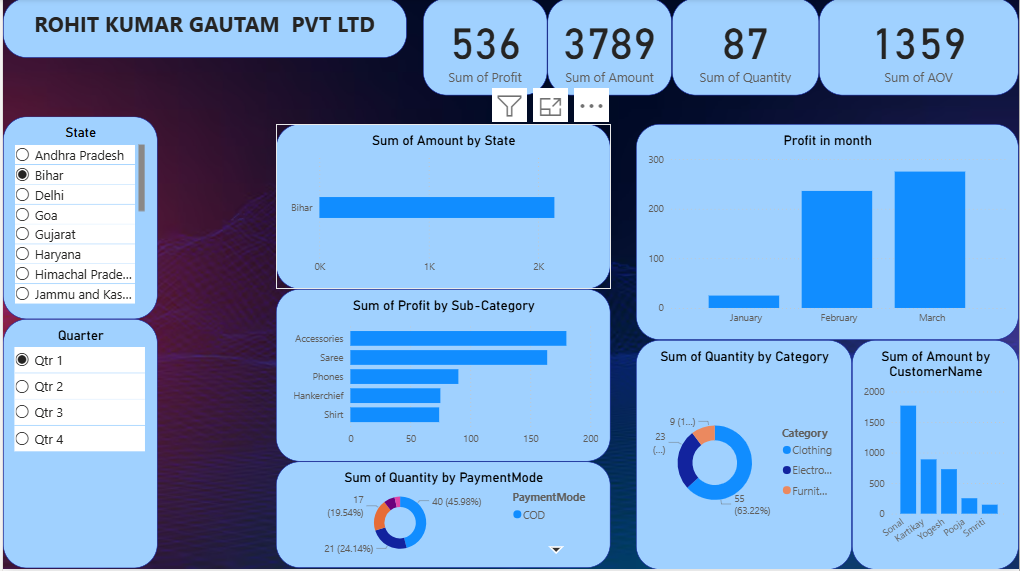

The page's visual inventory and layout, read from the dashboard file:
{"tool":"powerbi","page":{"name":"Page 1","canvas":[1280,720],"ordinal":0},"visuals":[{"type":"textbox","box":[0,0,508.4,75.6],"z":0},{"type":"columnChart","title":"Profit in month","fields":{"Category":["Orders.Order Date.Variation.Date Hierarchy.Month"],"Y":["Details.Profit"]},"box":[797.5,158.7,481.9,272.1],"z":1},{"type":"barChart","fields":{"Category":["Details.Sub-Category"],"Y":["Details.Profit"]},"box":[343.9,366.6,421.4,217.3],"z":2},{"type":"donutChart","fields":{"Category":["Details.Category"],"Y":["Details.Quantity"]},"box":[797.5,430.9,272.1,289.1],"z":3},{"type":"donutChart","fields":{"Y":["Details.Quantity"],"Category":["Details.PaymentMode"]},"box":[343.9,583.9,421.4,134.2],"z":4},{"type":"card","fields":{"Values":["Details.Amount"]},"box":[686,0,156.9,122.8],"z":5},{"type":"card","fields":{"Values":["Details.Quantity"]},"box":[842.8,0,185.2,122.8],"z":6},{"type":"card","fields":{"Values":["Details.AOV"]},"box":[1028,0,251.3,122.8],"z":7},{"type":"card","fields":{"Values":["Details.Profit"]},"box":[529.1,0,156.9,122.8],"z":8},{"type":"barChart","fields":{"Category":["Orders.State"],"Y":["Details.Amount"]},"box":[343.9,158.7,421.4,207.9],"z":9},{"type":"columnChart","fields":{"Category":["Orders.CustomerName"],"Y":["Details.Amount"]},"box":[1069.6,430.9,209.8,289.1],"z":10},{"type":"listSlicer","fields":{"Values":["Orders.Order Date.Variation.Date Hierarchy.Quarter"]},"box":[0,404.4,194.6,313.7],"z":11},{"type":"listSlicer","fields":{"Values":["Orders.State"]},"box":[0,149.3,194.6,255.1],"z":12}]}

Visuals, with their boxes in screenshot pixels (x1, y1, x2, y2), scaled from the page's 1280x720 canvas onto the 1020x571 screenshot:
textbox: x1=0 y1=0 x2=405 y2=60
"Profit in month" columnChart: x1=636 y1=126 x2=1019 y2=342
barChart - Details.Sub-Category x Details.Profit: x1=274 y1=291 x2=610 y2=463
donutChart - Details.Category x Details.Quantity: x1=636 y1=342 x2=852 y2=570
donutChart - Details.Quantity x Details.PaymentMode: x1=274 y1=463 x2=610 y2=569
card - Details.Amount: x1=547 y1=0 x2=672 y2=97
card - Details.Quantity: x1=672 y1=0 x2=819 y2=97
card - Details.AOV: x1=819 y1=0 x2=1019 y2=97
card - Details.Profit: x1=422 y1=0 x2=547 y2=97
barChart - Orders.State x Details.Amount: x1=274 y1=126 x2=610 y2=291
columnChart - Orders.CustomerName x Details.Amount: x1=852 y1=342 x2=1019 y2=570
listSlicer - Orders.Order Date.Variation.Date Hierarchy.Quarter: x1=0 y1=321 x2=155 y2=569
listSlicer - Orders.State: x1=0 y1=118 x2=155 y2=321
